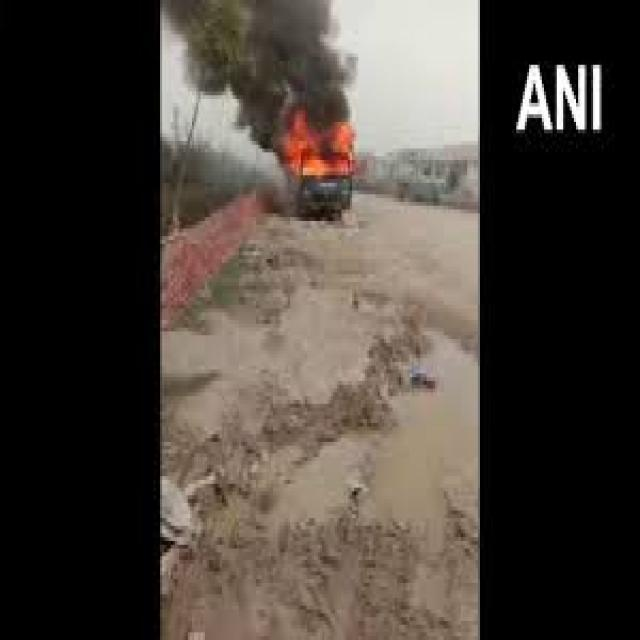Fire: (284, 111, 358, 175)
Smoke: (168, 0, 358, 107), (252, 76, 285, 152)
